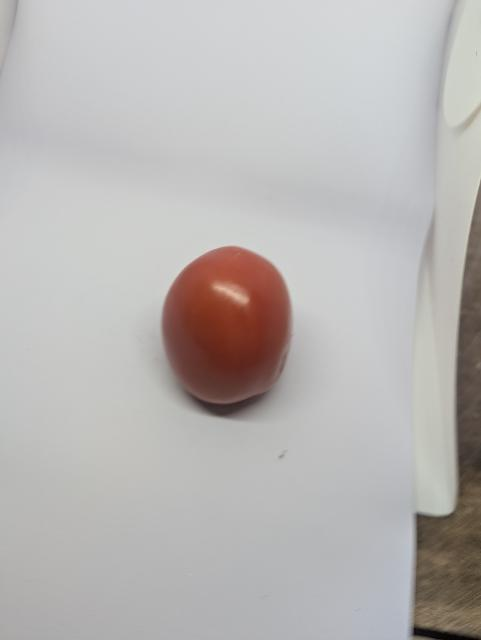red: (149, 238, 316, 420)
